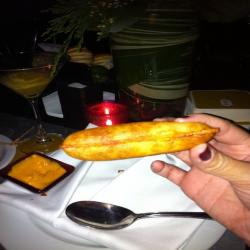apple_pie: (58, 115, 228, 169)
